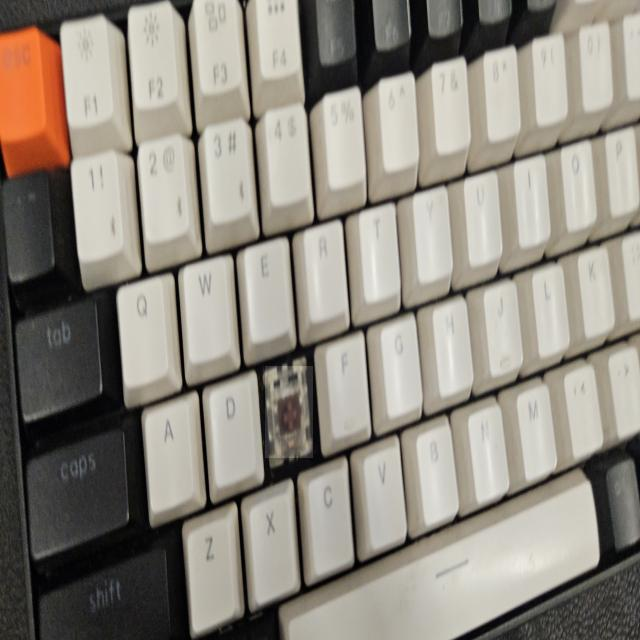C: (265, 366, 313, 458)
